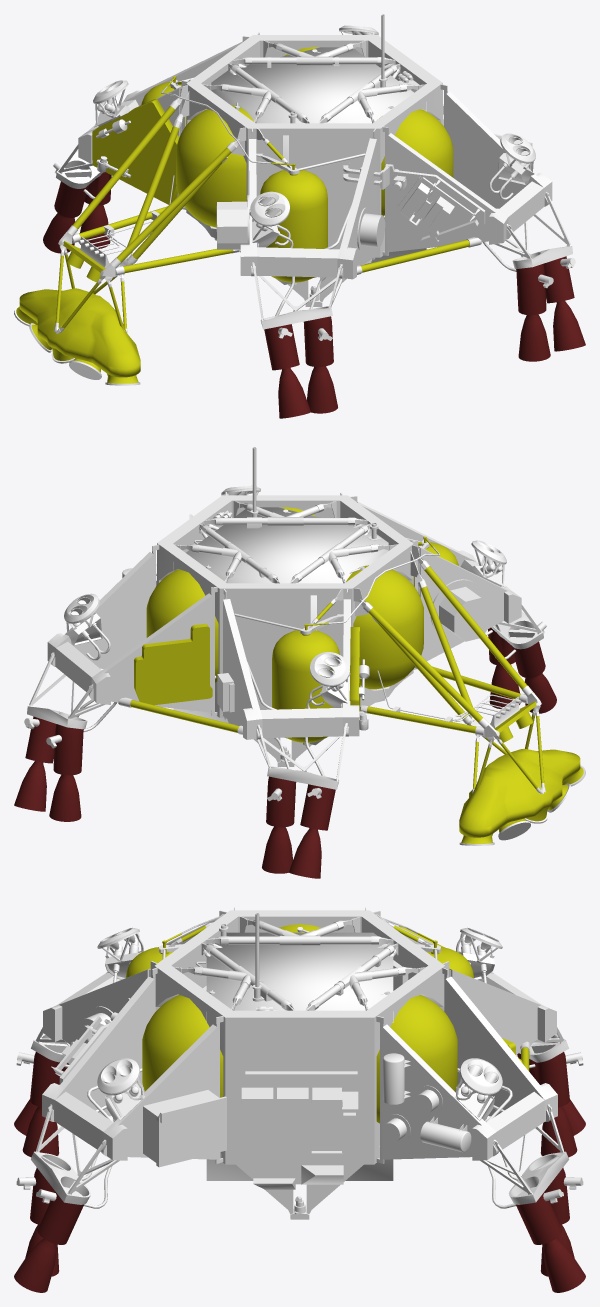
Rendered from skycrane.glb.
The picture shows the model from 3 angles, top to bottom: view 1: azimuth 30°, elevation 25°; view 2: azimuth 150°, elevation 25°; view 3: azimuth 270°, elevation 25°; orthographic projection. The views are drawn at different scales.
Parts seen in each view (by area): view 1: frame_5, tanks_7, engines_2, Object_4, struts_6, extrudes_4, engines_top_3, brackets_other_0, cylinders_1, tubes_8; view 2: frame_5, tanks_7, engines_2, Object_4, struts_6, engines_top_3, brackets_other_0, extrudes_4, tubes_8, cylinders_1; view 3: frame_5, engines_2, Object_4, tanks_7, struts_6, extrudes_4, engines_top_3, brackets_other_0, tubes_8, cylinders_1.
Part boxes in pixels (bbox=[...]): frame_5: bbox=[14, 14, 552, 385]; tanks_7: bbox=[16, 47, 469, 383]; engines_2: bbox=[43, 151, 585, 418]; Object_4: bbox=[211, 47, 426, 284]; struts_6: bbox=[54, 41, 481, 333]; extrudes_4: bbox=[79, 106, 532, 267]; engines_top_3: bbox=[93, 25, 535, 248]; brackets_other_0: bbox=[59, 77, 570, 319]; cylinders_1: bbox=[96, 49, 419, 301]; tubes_8: bbox=[83, 86, 523, 315]; frame_5: bbox=[47, 447, 585, 845]; tanks_7: bbox=[130, 507, 583, 843]; engines_2: bbox=[14, 611, 556, 878]; Object_4: bbox=[173, 507, 388, 745]; struts_6: bbox=[118, 502, 545, 793]; engines_top_3: bbox=[64, 485, 506, 708]; brackets_other_0: bbox=[29, 537, 540, 780]; extrudes_4: bbox=[156, 515, 520, 728]; tubes_8: bbox=[76, 546, 516, 776]; cylinders_1: bbox=[194, 509, 380, 761]; frame_5: bbox=[42, 907, 557, 1219]; engines_2: bbox=[14, 1031, 585, 1292]; Object_4: bbox=[206, 932, 393, 1180]; tanks_7: bbox=[126, 924, 529, 1123]; struts_6: bbox=[70, 918, 529, 1052]; extrudes_4: bbox=[51, 960, 408, 1189]; engines_top_3: bbox=[97, 927, 502, 1121]; brackets_other_0: bbox=[36, 943, 563, 1194]; tubes_8: bbox=[64, 916, 535, 1208]; cylinders_1: bbox=[195, 924, 467, 1214].
Size of the model in its own units: 2.97 by 1.96 by 3.06.
